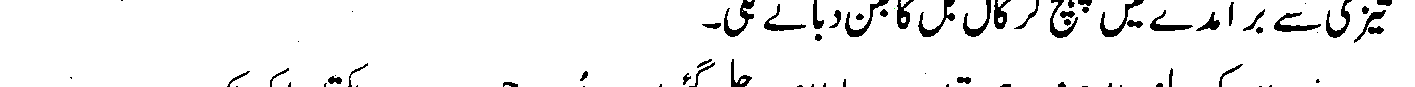bay_shosha: (810, 16, 825, 41)
